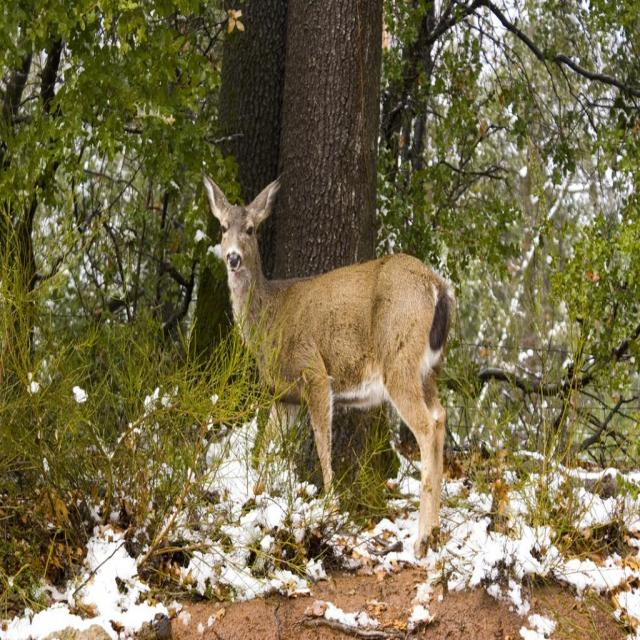Deer: (201, 173, 456, 560)
